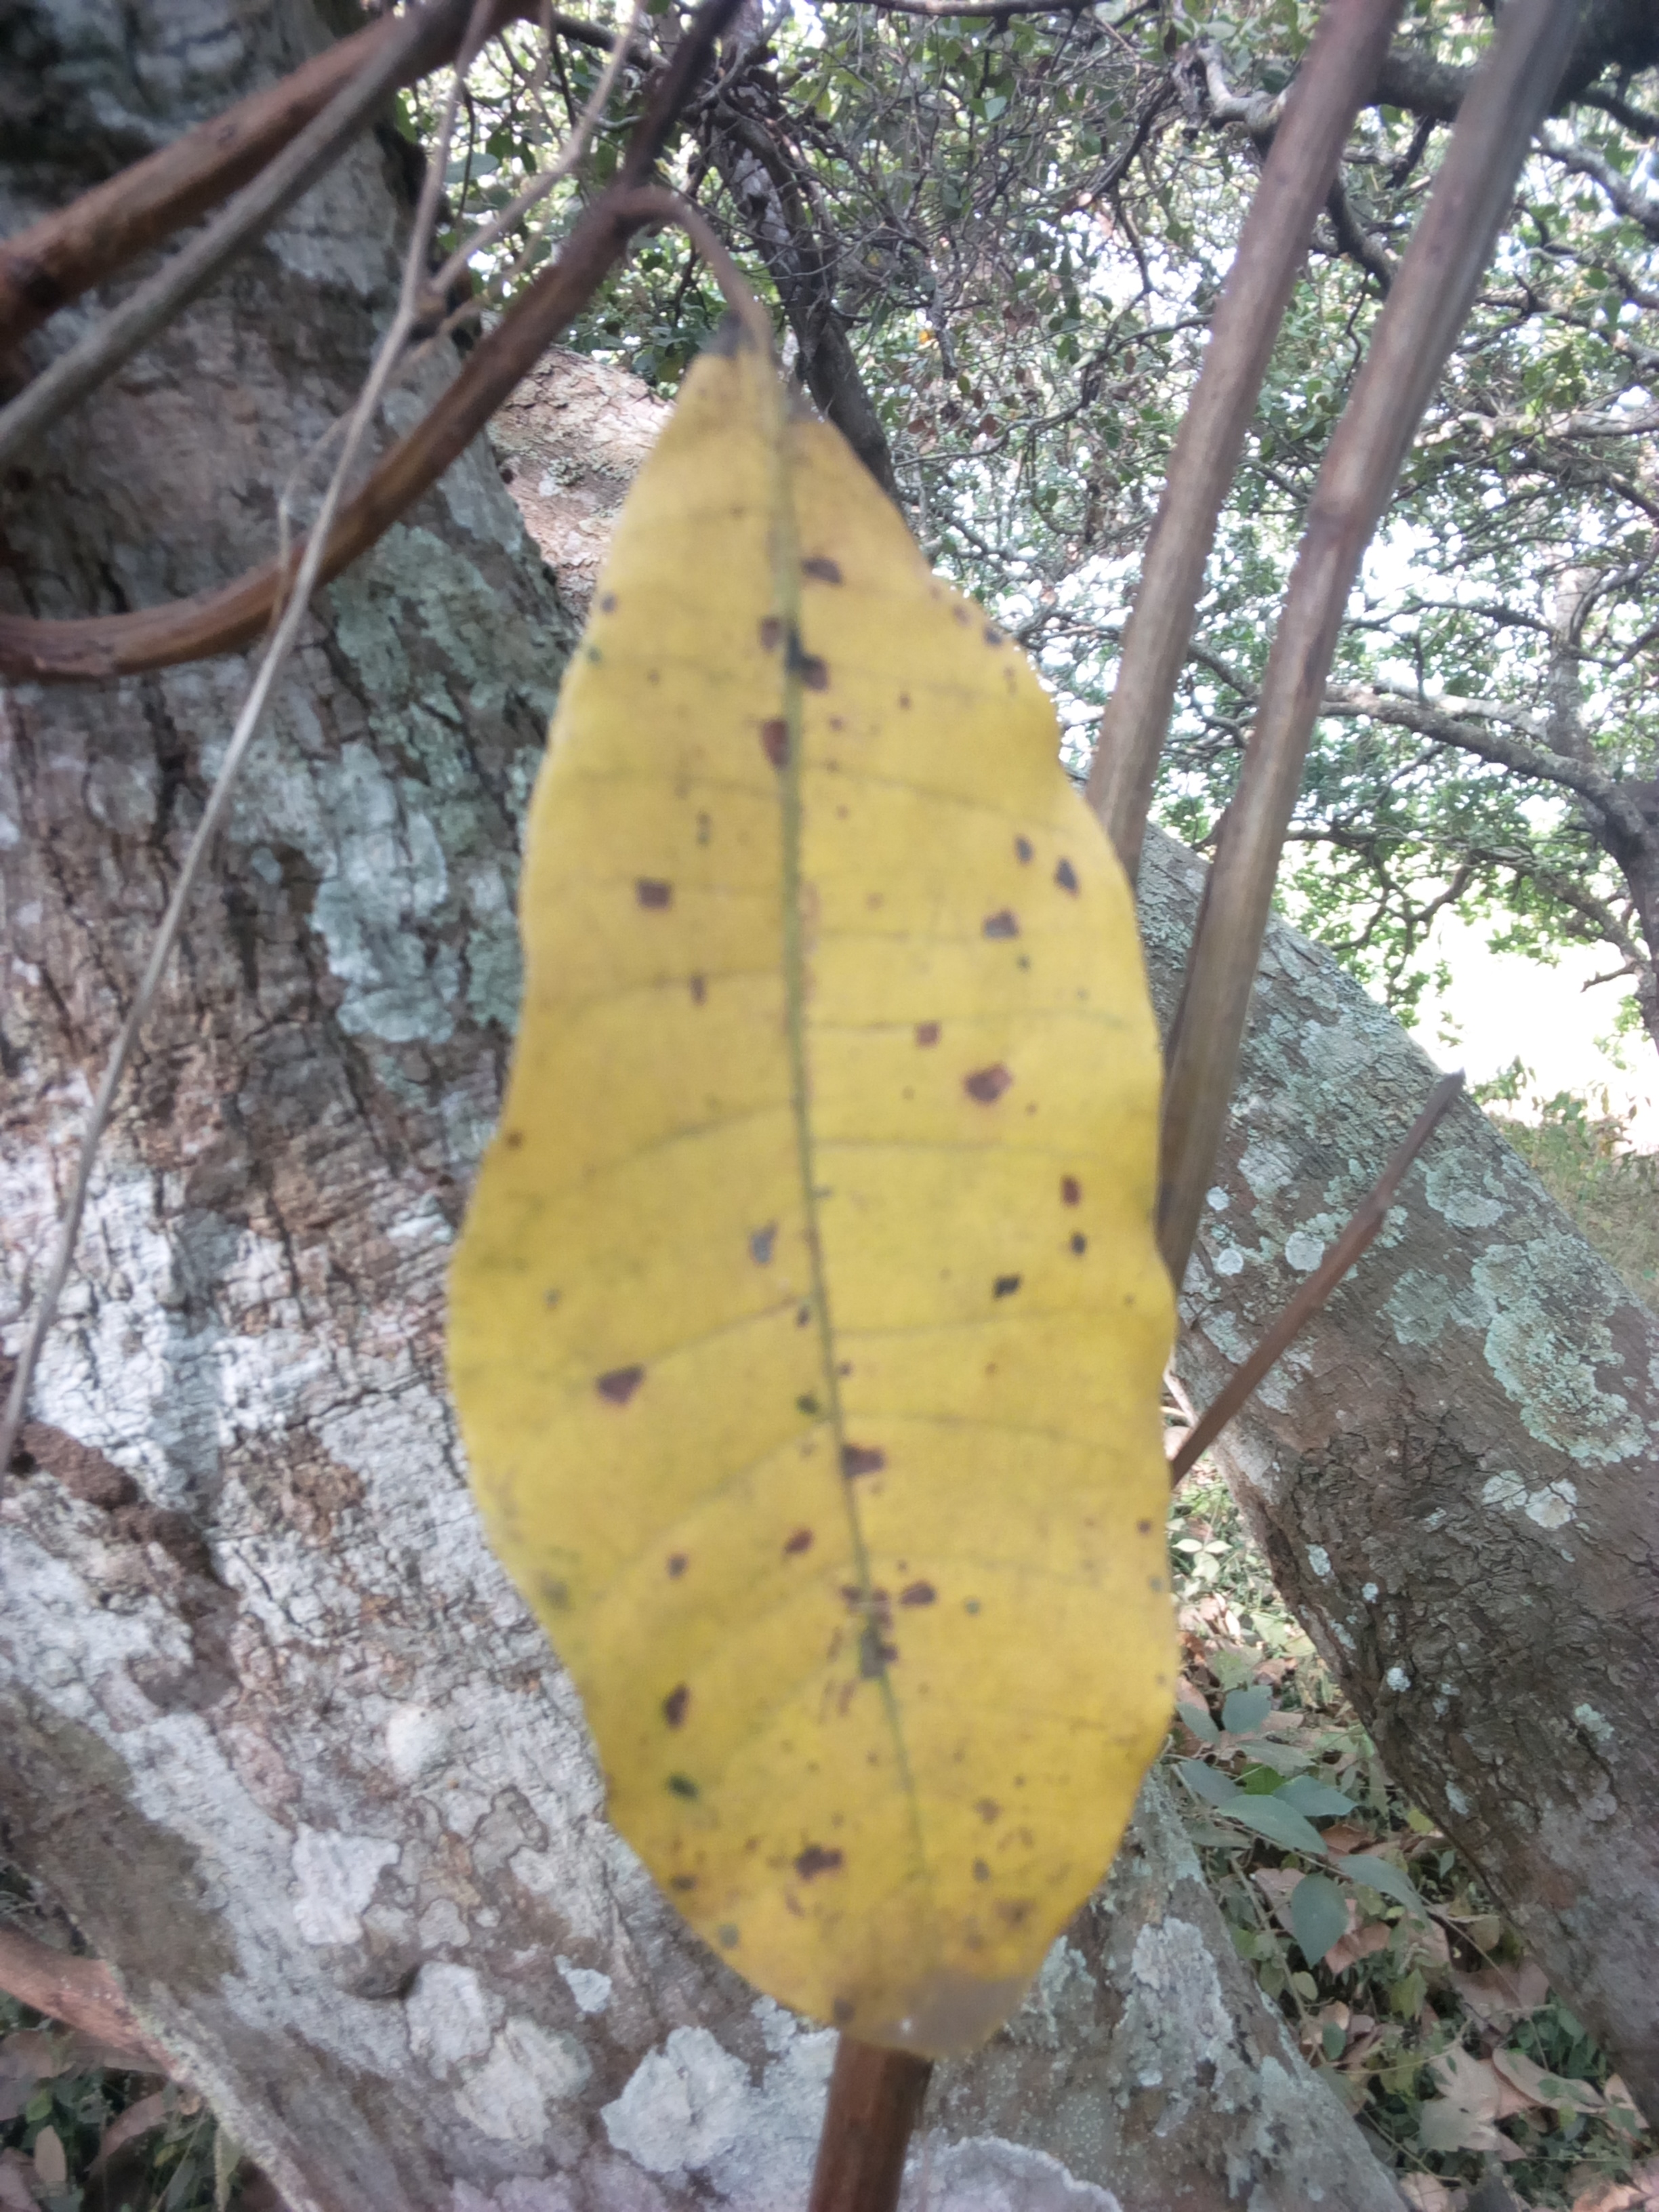Pestalotiose: (542, 357, 1182, 2005)
